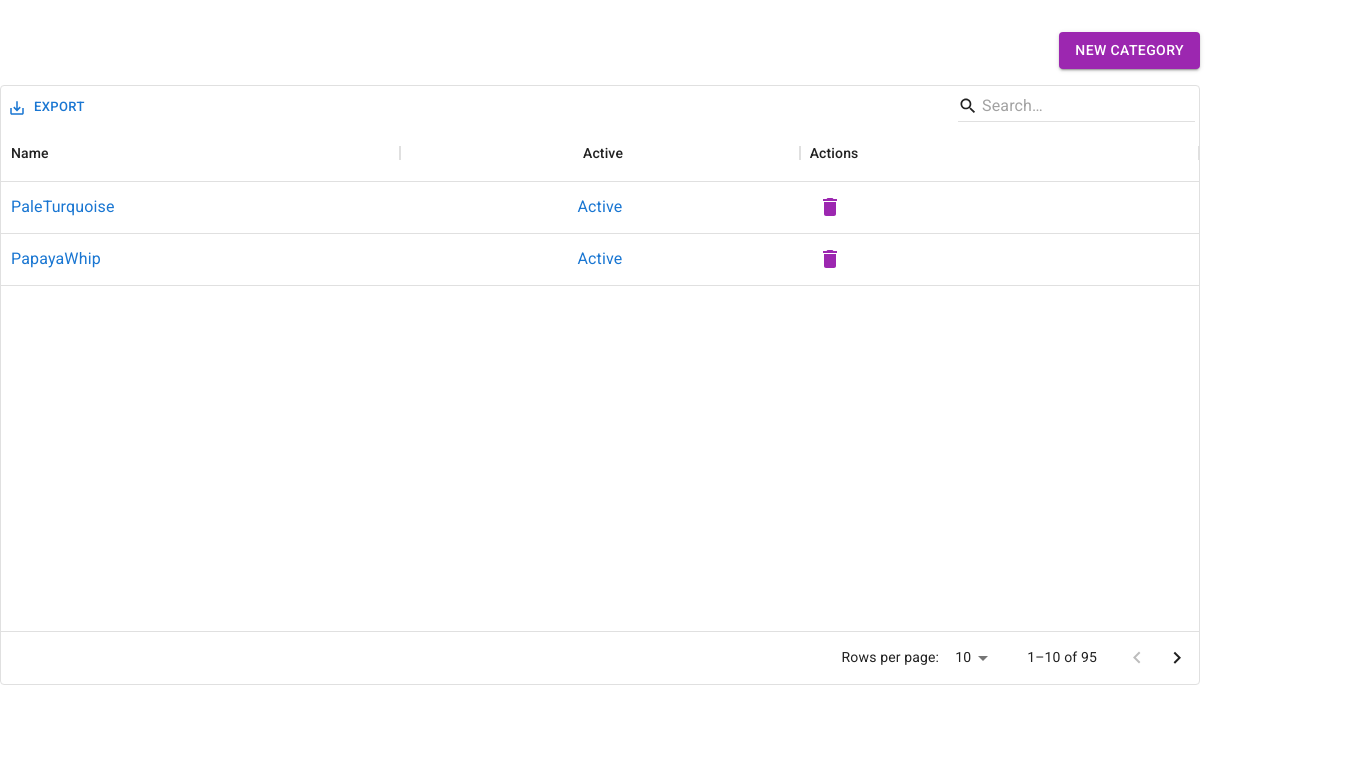
it: CategoryList › should handle Delete Category error
The width and height of the screenshot is (1366, 768).
Expected: the text "PaleTurquoise" is shown, [11,195,115,219]
Step 1. Click the button with test id "delete-button" in the row of "PaleTurquoise" → (830, 207), box [810,187,850,227]
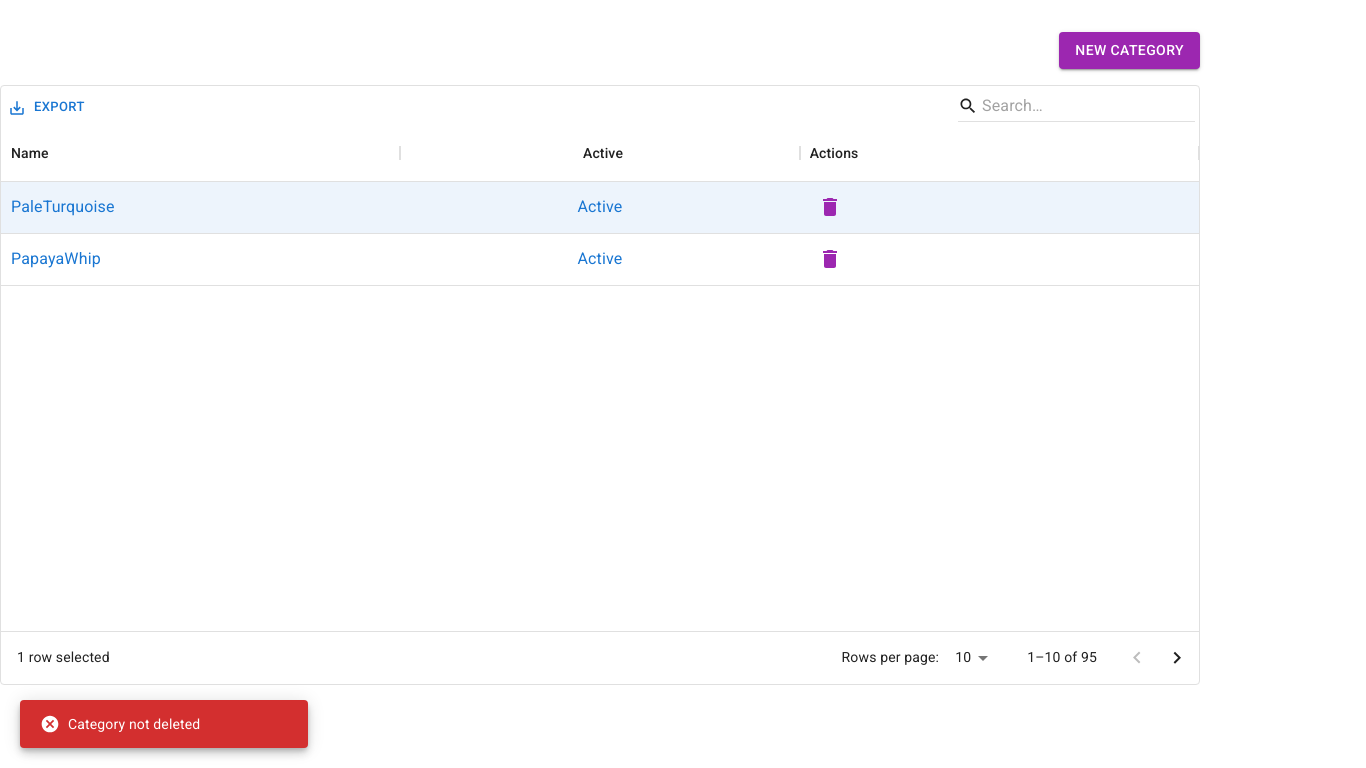
Expected: the text "Category not deleted" is shown, [40,714,200,734]
